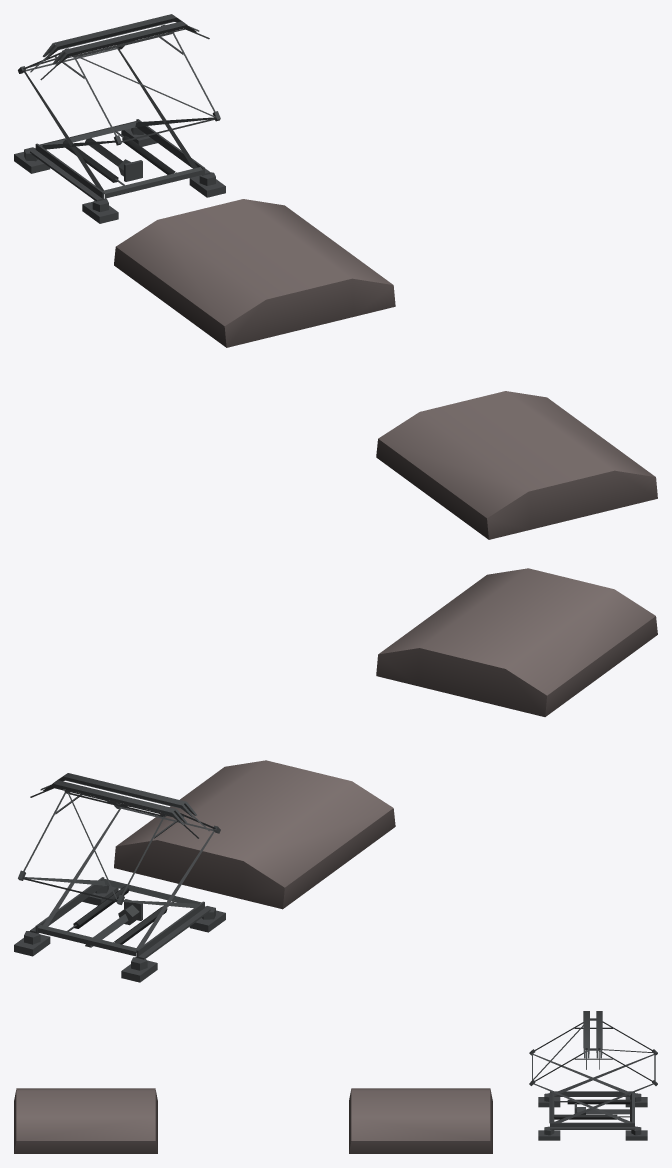
The model's file is JR223_PANTA00.glb.
The picture shows the model from 3 angles, top to bottom: view 1: azimuth 30°, elevation 25°; view 2: azimuth 150°, elevation 25°; view 3: azimuth 270°, elevation 25°; orthographic projection. The views are drawn at different scales.
Parts seen in each view (by area): view 1: PANTA; view 2: PANTA; view 3: PANTA.
Part boxes in pixels (<box>): PANTA: <box>14,14,657,539</box>; PANTA: <box>14,568,657,982</box>; PANTA: <box>14,1011,657,1153</box>.
Size of the model in its own units: 4.48 by 3.88 by 23.16.
Materials: 2 (2 with a texture image).
